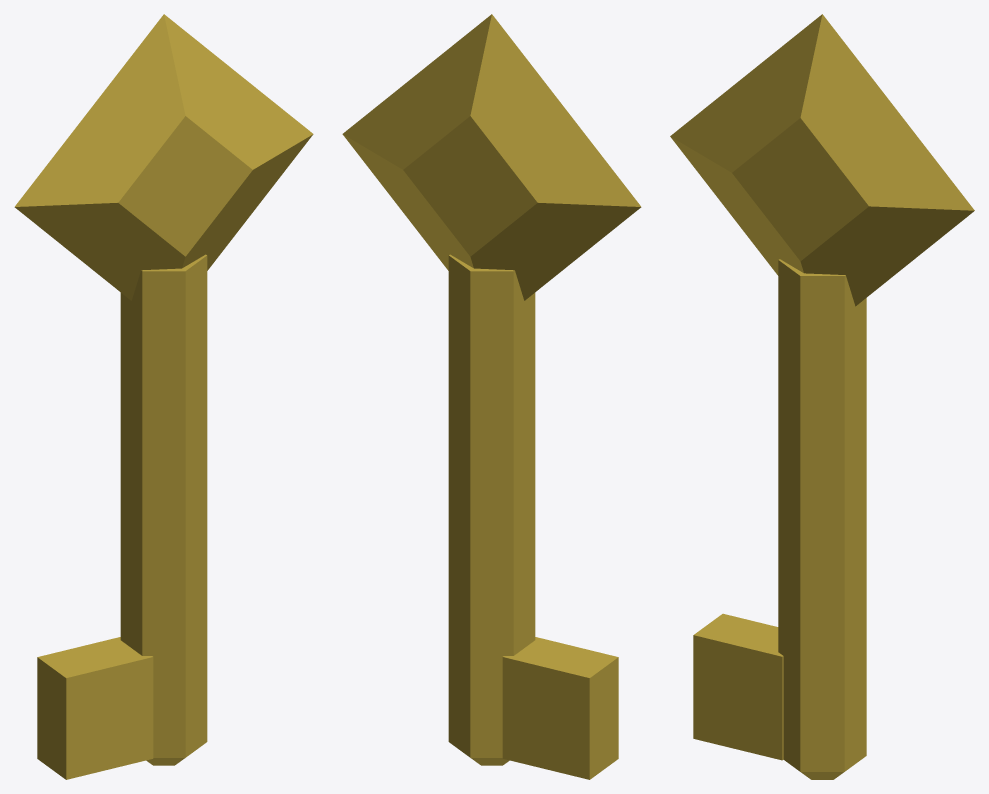
The model's file is key.glb.
3 renders of one model, left to right at view 1: azimuth 30°, elevation 25°; view 2: azimuth 150°, elevation 25°; view 3: azimuth 330°, elevation 25°, orthographic.
Visible parts, largest first — view 1: key; view 2: key; view 3: key.
Boxes of the visible parts, left/top/right/bottom form: key: left=14, top=14, right=313, bottom=779; key: left=342, top=14, right=641, bottom=779; key: left=670, top=14, right=974, bottom=779.
Bounding box in the file's own units: 0.24 × 0.57 × 0.06.
